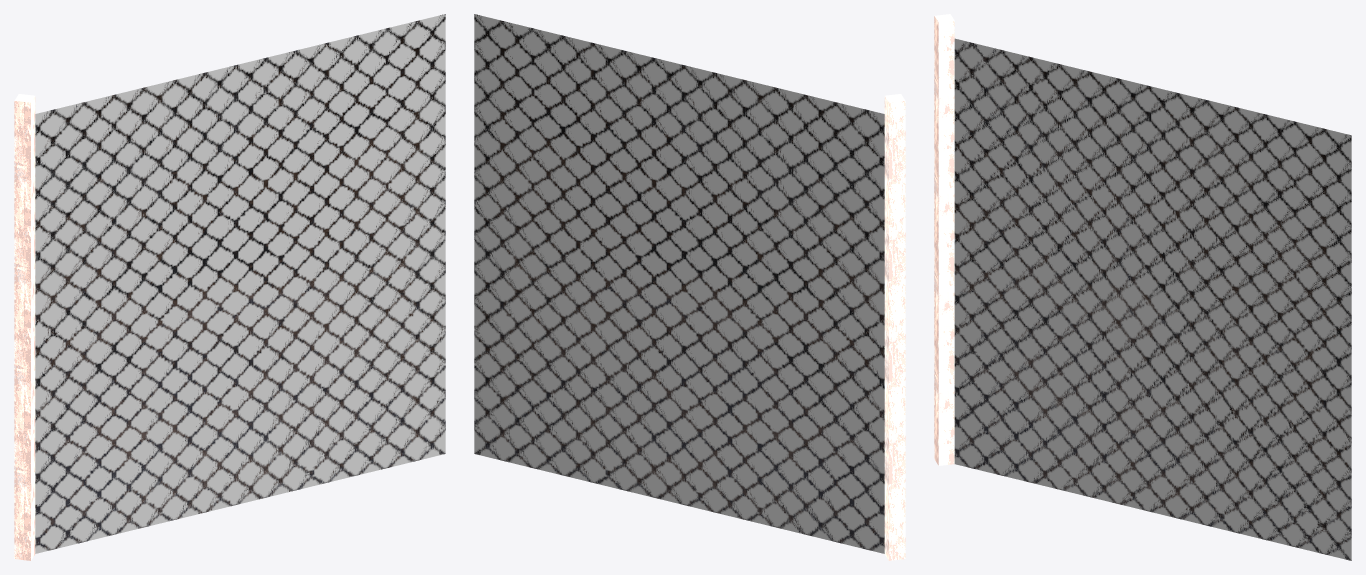
The model's file is chainlink_fence.glb.
The picture shows the model from 3 angles, left to right: view 1: azimuth 30°, elevation 25°; view 2: azimuth 150°, elevation 25°; view 3: azimuth 330°, elevation 25°; orthographic projection. The views are drawn at different scales.
Parts seen in each view (by area): view 1: Chainlink Fence, Pole; view 2: Chainlink Fence, Pole; view 3: Chainlink Fence, Pole.
Boxes of the visible parts, <box> form: Chainlink Fence: <box>35,14,445,553</box>; Pole: <box>14,94,35,560</box>; Chainlink Fence: <box>474,14,884,553</box>; Pole: <box>884,94,905,560</box>; Chainlink Fence: <box>954,38,1351,560</box>; Pole: <box>934,14,954,465</box>.
Bounding box in the file's own units: 2.46 × 2.5 × 0.12.
Materials: 2 (1 with a texture image).
